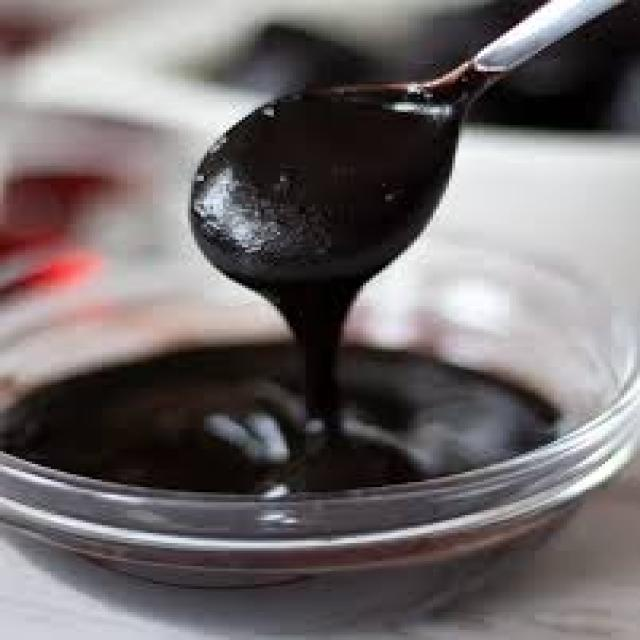Chocolate: (0, 332, 589, 620)
